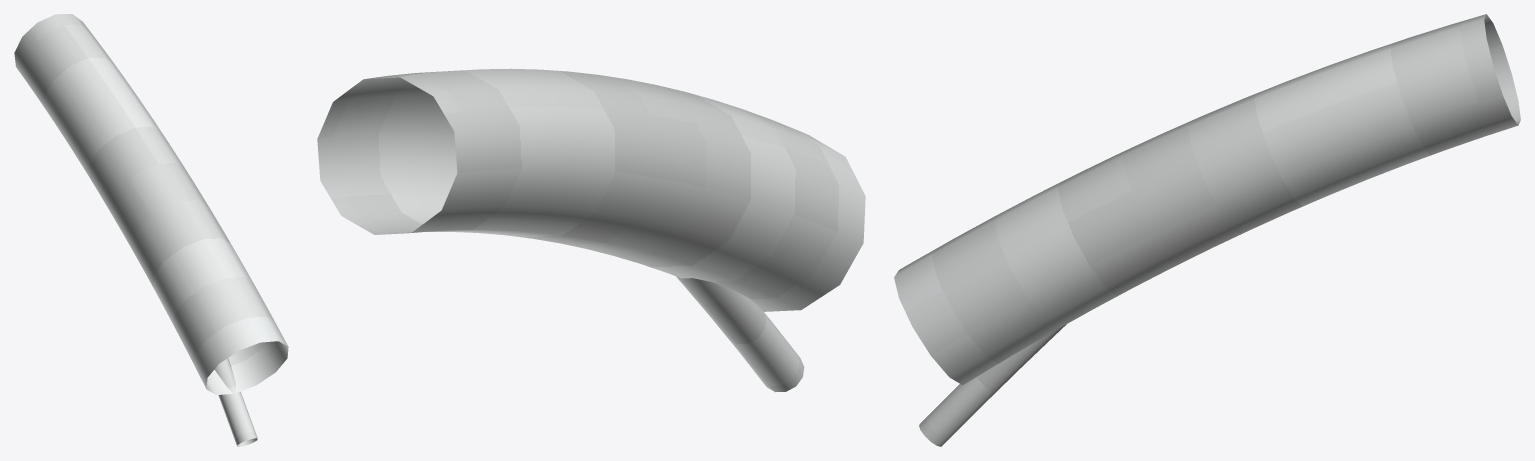
The model's file is luminairearm_laupsweep8ft_c3.obj.
3 views of the same model, side by side, from view 1: azimuth 30°, elevation 25°; view 2: azimuth 150°, elevation 25°; view 3: azimuth 270°, elevation 25° (orthographic). The views are drawn at different scales.
Parts seen in each view (by area): view 1: luminairearm_laupsweep8ft_c3; view 2: luminairearm_laupsweep8ft_c3; view 3: luminairearm_laupsweep8ft_c3.
Boxes of the visible parts, x1,y1,x2,y2 form: luminairearm_laupsweep8ft_c3: [14, 14, 288, 446]; luminairearm_laupsweep8ft_c3: [317, 68, 865, 392]; luminairearm_laupsweep8ft_c3: [894, 14, 1520, 446].
Size of the model in its own units: 0.2333 by 0.8208 by 1.1.
